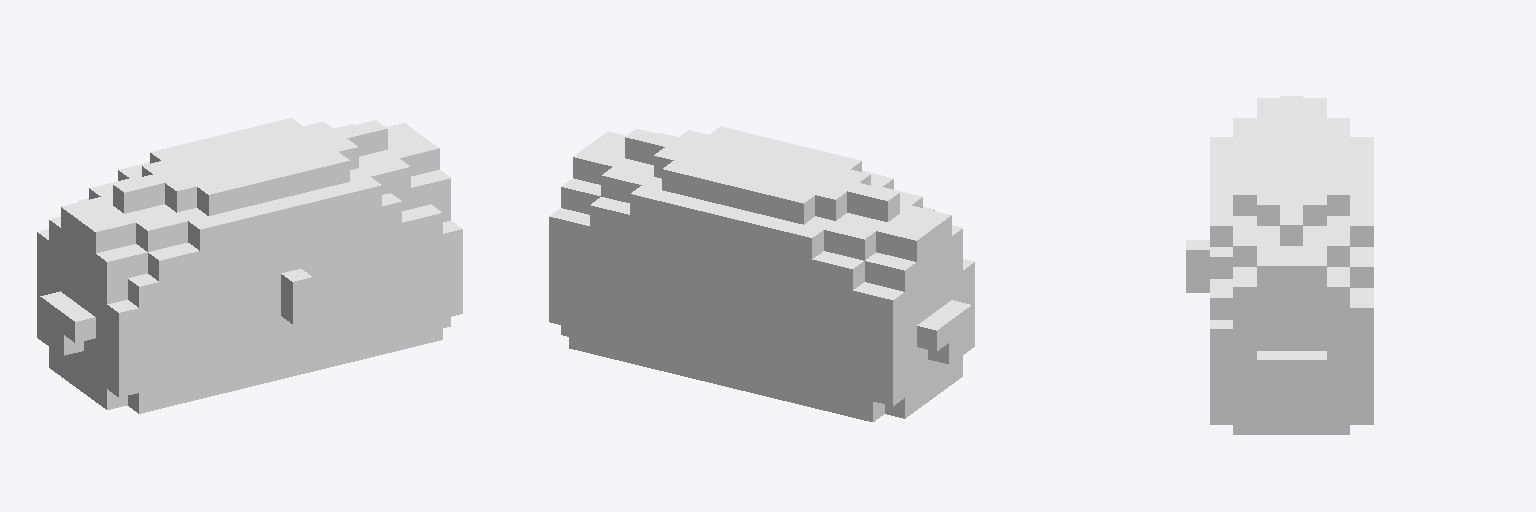
File: prop_chest_light_brown.obj
3 renders of one model, left to right at view 1: azimuth 30°, elevation 25°; view 2: azimuth 150°, elevation 25°; view 3: azimuth 270°, elevation 25°, orthographic.
Visible parts, largest first — view 1: object 1; view 2: object 1; view 3: object 1.
Boxes of the visible parts, <box> form: object 1: <box>37,118,462,413</box>; object 1: <box>549,126,974,421</box>; object 1: <box>1186,96,1373,434</box>.
Size of the model in its own units: 1.9 by 0.9 by 0.8.